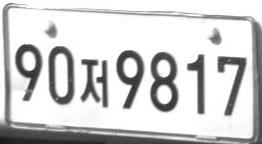0: (47, 45, 75, 104)
1: (184, 53, 214, 114)
7: (217, 55, 246, 116)
8: (149, 51, 178, 113)
9: (115, 49, 144, 109), (14, 43, 43, 101)
저: (80, 58, 108, 108)
